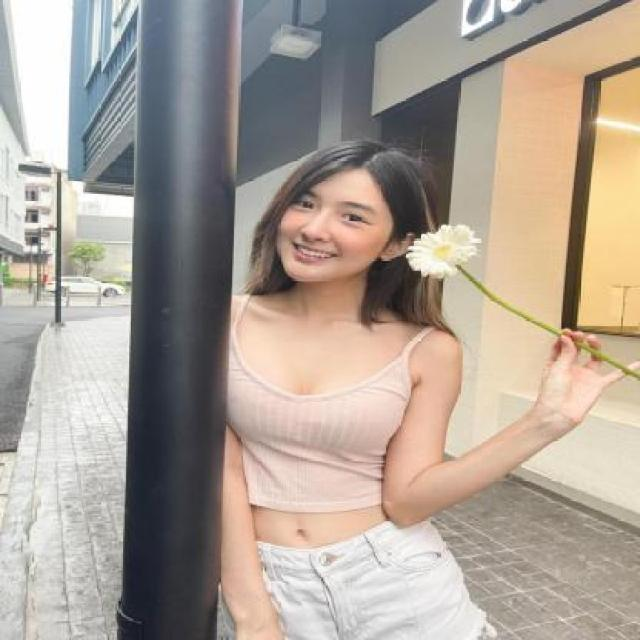sem_oculos: (279, 181, 388, 240)
